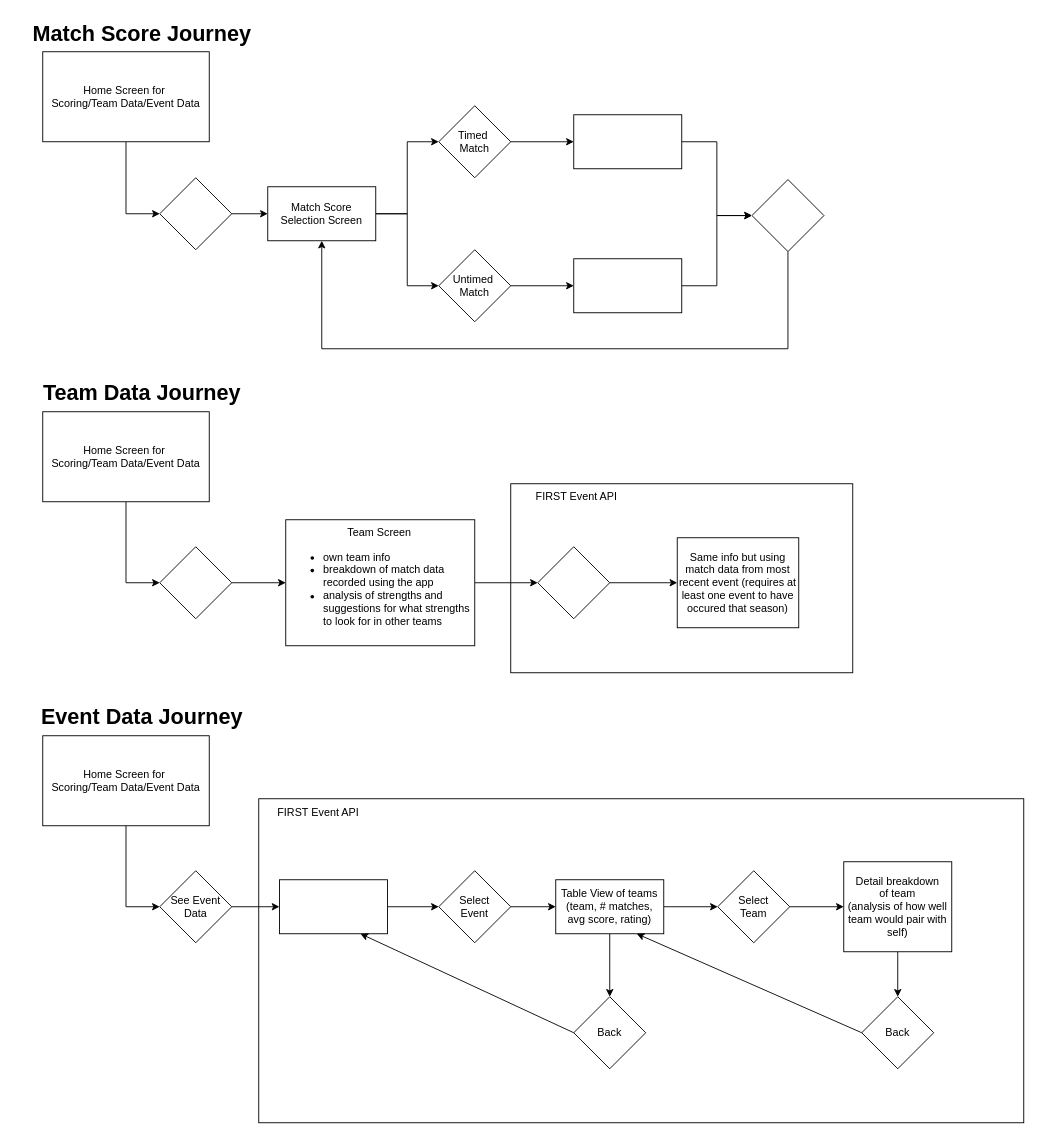
Image size: 1040x1139. Some labels were removed from this diagram. Here are the shapes that lost their labels. From the top down, the centre of each, then its label:
At (x=627, y=141): "Timed Match Scoring (each phase goes into the next on a timer)".
At (x=195, y=213): "Score a Match".
At (x=787, y=215): "Save/Cancel".
At (x=627, y=285): "Custom Scoring (score each phase whenever w/ no timer)".
At (x=195, y=582): "See Team Data".
At (x=573, y=582): "Query API".
At (x=333, y=906): "Event Data Screen".
